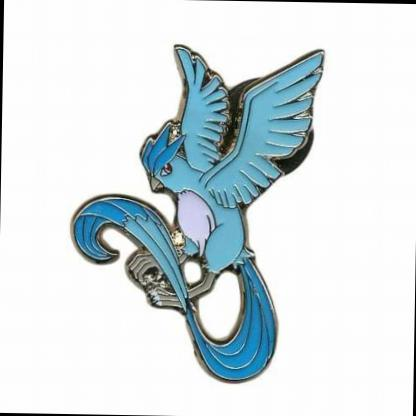Articuno: (1, 1, 416, 410)
